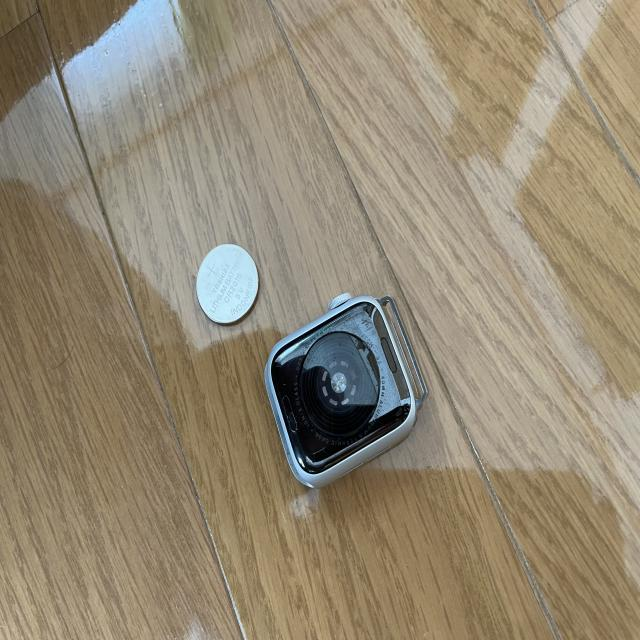COIN: (196, 242, 258, 326)
